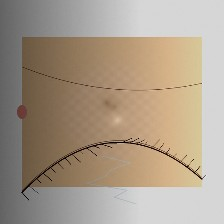foreign_body_visible: (106, 113, 150, 148)
